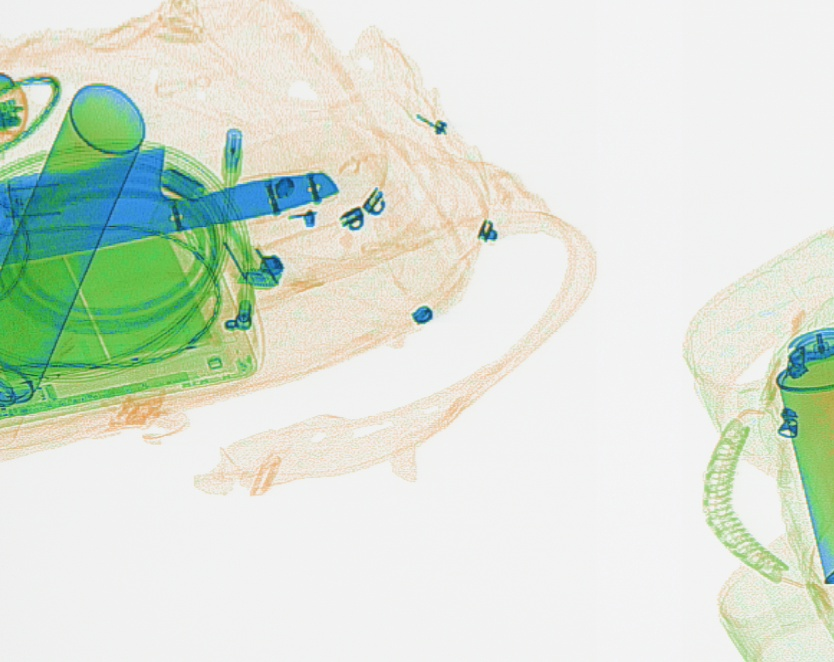knife: (4, 143, 339, 267)
pressure: (4, 79, 147, 451), (775, 325, 832, 586)
